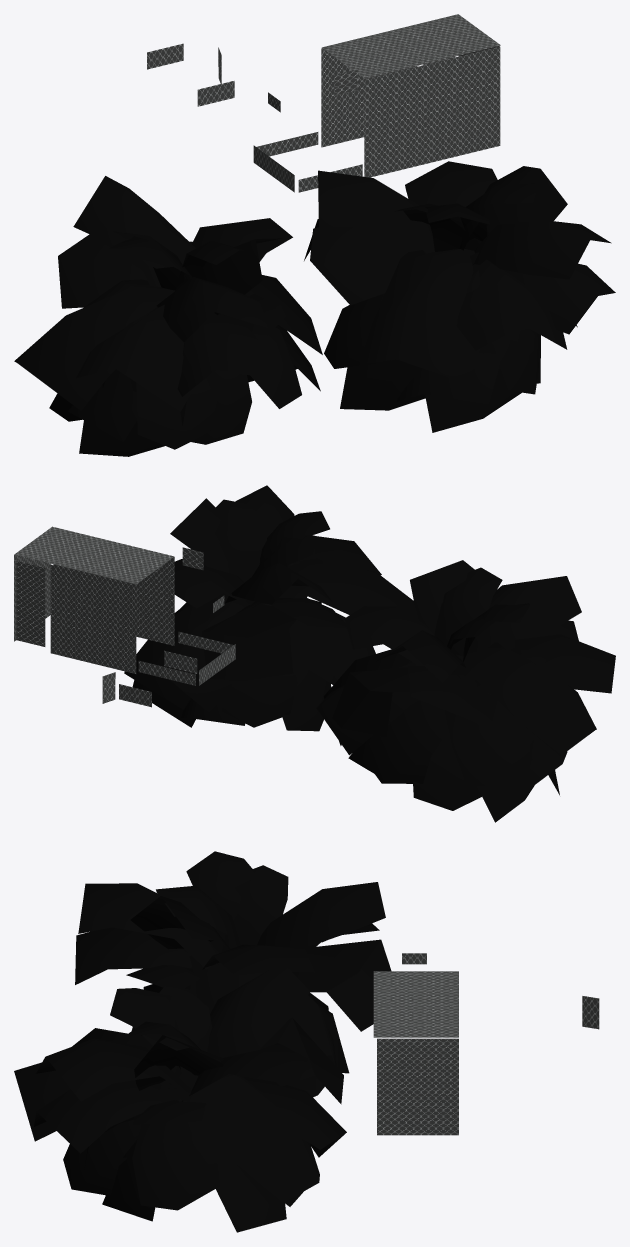
The model's file is AWJHelper_Transparent.fbx.
3 renders of one model, top to bottom at view 1: azimuth 30°, elevation 25°; view 2: azimuth 150°, elevation 25°; view 3: azimuth 270°, elevation 25°, orthographic. The views are drawn at different scales.
Visible parts, largest first — view 1: MeshBaker_mesh_mesh; view 2: MeshBaker_mesh_mesh; view 3: MeshBaker_mesh_mesh.
Part boxes in pixels (box(x1,y1,x2,y2)): MeshBaker_mesh_mesh: box(14, 14, 615, 456); MeshBaker_mesh_mesh: box(14, 485, 615, 822); MeshBaker_mesh_mesh: box(14, 851, 599, 1232).
Size of the model in its own units: 1157 by 496 by 1106.
Materials: 1 (1 with a texture image).
